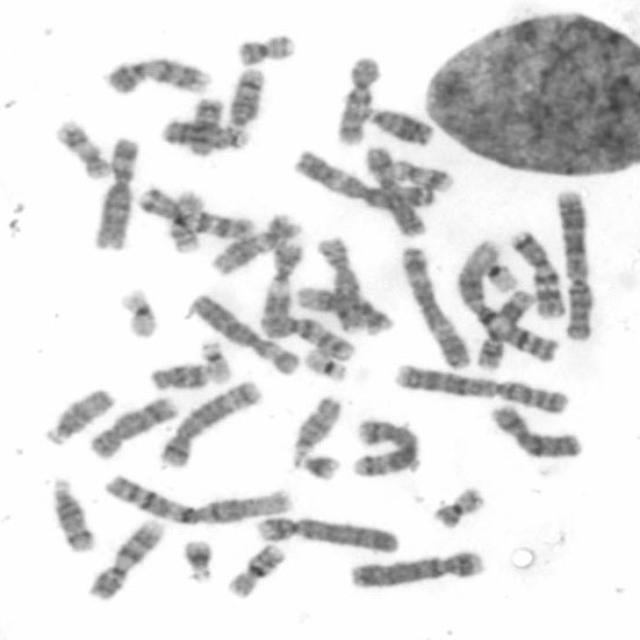A1: (452, 234, 561, 364), (102, 469, 295, 527)
A2: (389, 360, 570, 414), (550, 184, 596, 343)
A3: (396, 242, 474, 370), (289, 145, 439, 211)
B4: (344, 545, 488, 592), (256, 512, 404, 556)
B5: (154, 377, 264, 469), (348, 414, 423, 478)
C10: (256, 310, 356, 362), (331, 52, 382, 148)
C11: (475, 289, 538, 374), (256, 238, 306, 336)
C12: (206, 209, 303, 278), (292, 282, 393, 335)
C6: (190, 292, 301, 380), (87, 132, 142, 251)
C7: (134, 183, 255, 240), (509, 225, 567, 321)
C8: (85, 392, 180, 461), (314, 234, 364, 336)
C9: (84, 513, 170, 600), (101, 51, 215, 98)
D13: (157, 118, 251, 154), (360, 103, 434, 147)
D14: (45, 472, 98, 554), (221, 64, 267, 130)
D15: (40, 382, 116, 448), (287, 392, 344, 461)
E16: (222, 538, 288, 600), (163, 186, 208, 255)
E17: (49, 114, 111, 182), (389, 158, 455, 195)
E18: (182, 94, 226, 158), (145, 359, 214, 393)
F19: (116, 285, 162, 341), (472, 247, 520, 292)
F20: (428, 482, 488, 530), (232, 30, 298, 68)
G21: (179, 534, 217, 584), (288, 450, 343, 482)
G22: (196, 336, 235, 385), (303, 346, 351, 385)
X: (361, 140, 430, 240), (490, 401, 589, 461)
